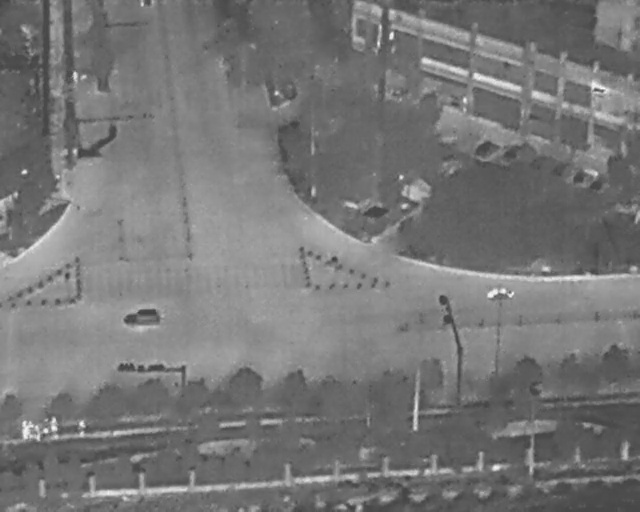Car: (470, 133, 503, 164), (119, 306, 163, 329), (499, 136, 529, 167), (570, 162, 600, 192), (588, 172, 611, 195), (139, 0, 156, 8)
Person: (47, 416, 58, 436), (26, 422, 36, 442), (20, 419, 29, 441), (76, 419, 86, 436), (42, 417, 51, 435), (33, 425, 41, 443), (72, 71, 78, 83)
